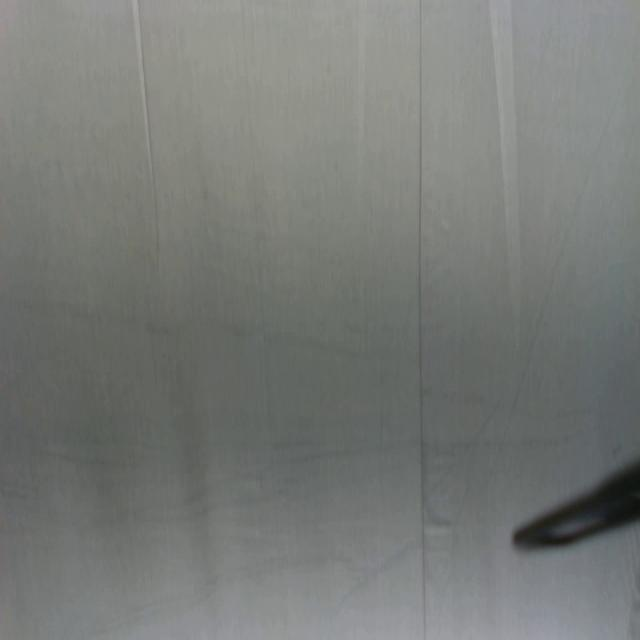crease: (239, 0, 272, 443), (487, 0, 523, 345), (132, 0, 162, 273), (416, 0, 428, 640)
